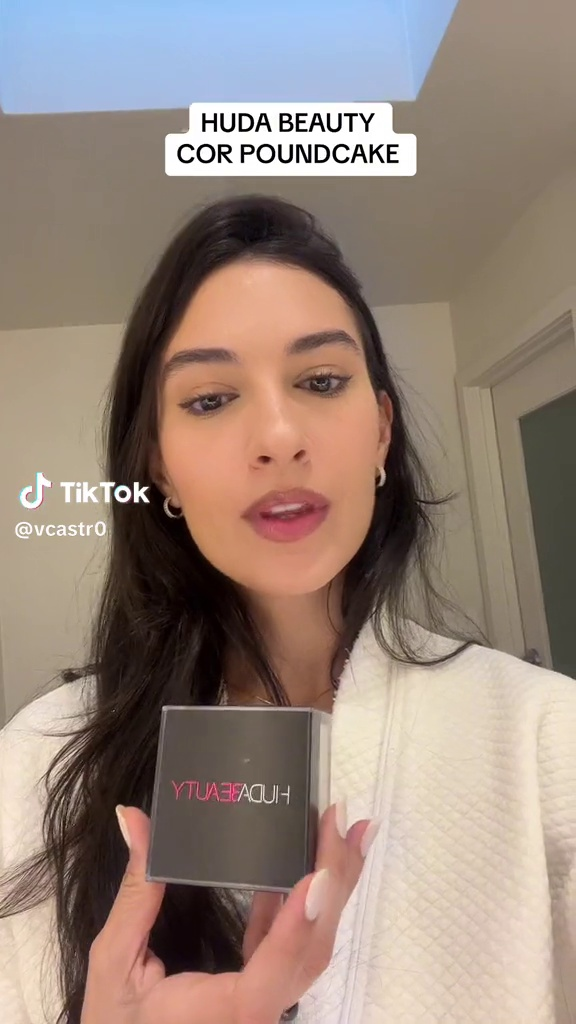train' :'yolo_data/train/images',: (137, 696, 340, 901)
